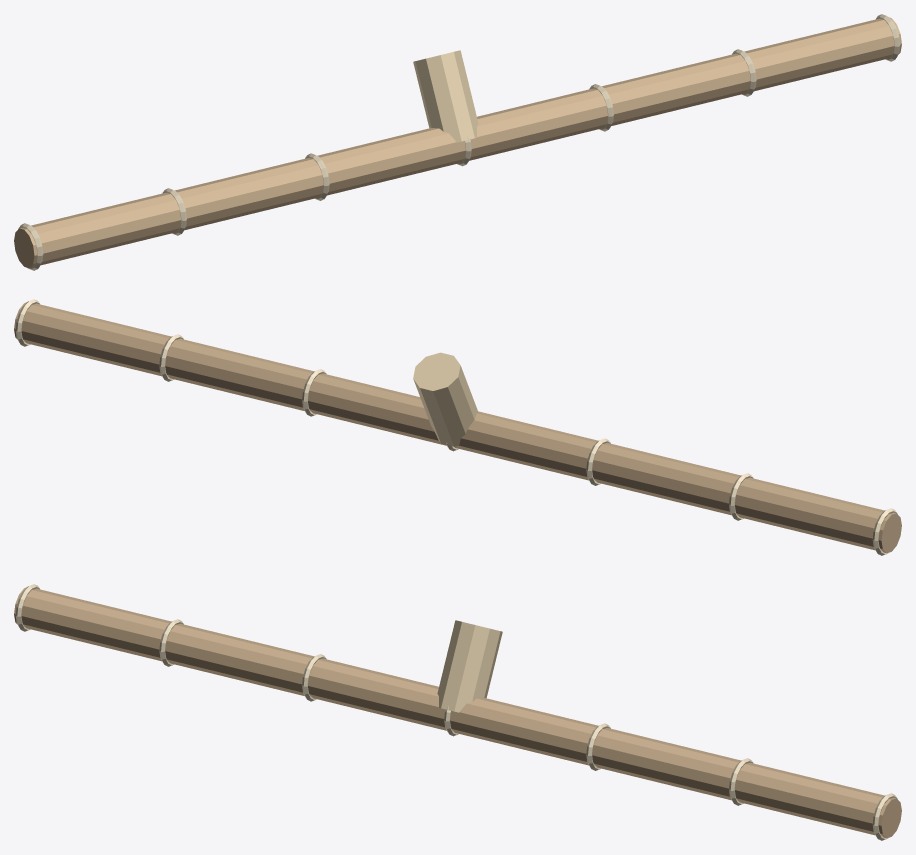
The model's file is colector.glb.
3 renders of one model, top to bottom at view 1: azimuth 30°, elevation 25°; view 2: azimuth 150°, elevation 25°; view 3: azimuth 330°, elevation 25°, orthographic.
Visible parts, largest first — view 1: colector; view 2: colector; view 3: colector.
Part boxes in pixels (bbox=[...]): colector: bbox=[14, 14, 901, 270]; colector: bbox=[14, 299, 901, 555]; colector: bbox=[14, 584, 901, 840].
Size of the model in its own units: 16.6 by 1.89 by 1.45.
